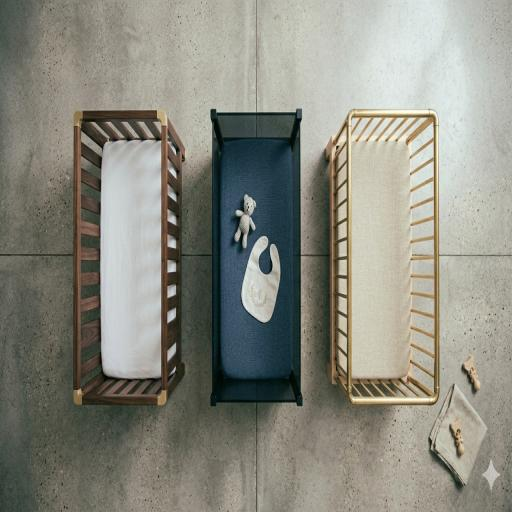crib: (326, 110, 439, 404), (74, 110, 185, 405), (211, 110, 302, 405)
